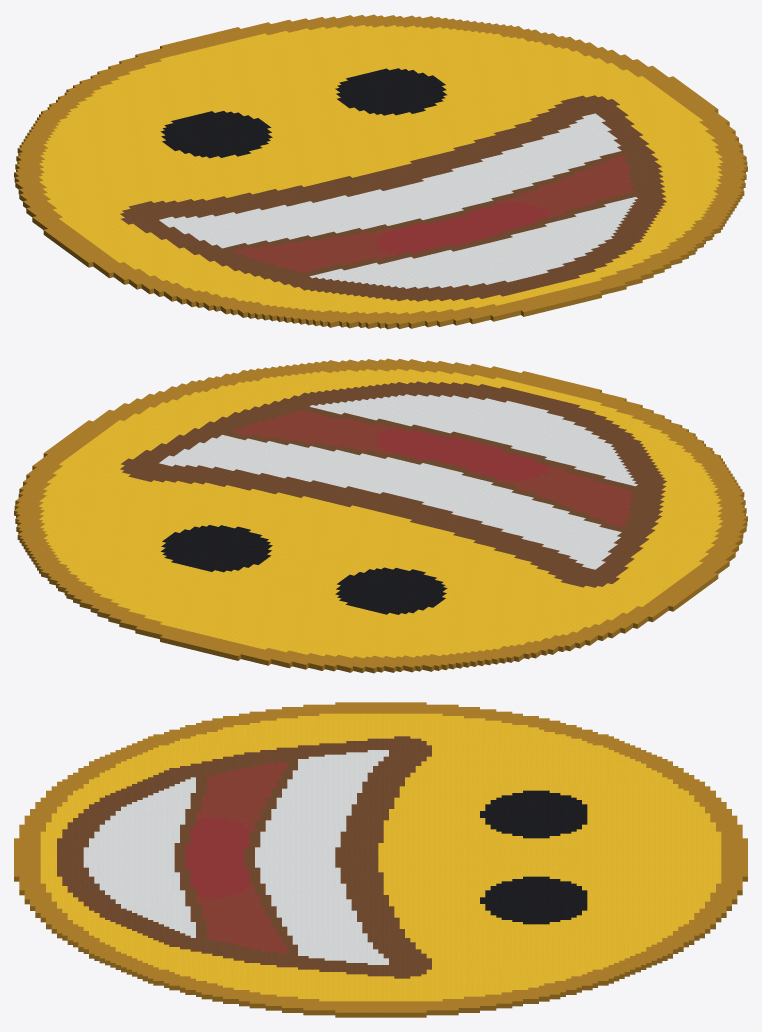
File: minecraft.obj
3 views of the same model, one above another, from view 1: azimuth 30°, elevation 25°; view 2: azimuth 150°, elevation 25°; view 3: azimuth 270°, elevation 25° (orthographic).
Bounding box in the file's own units: 137 × 1 × 137.
